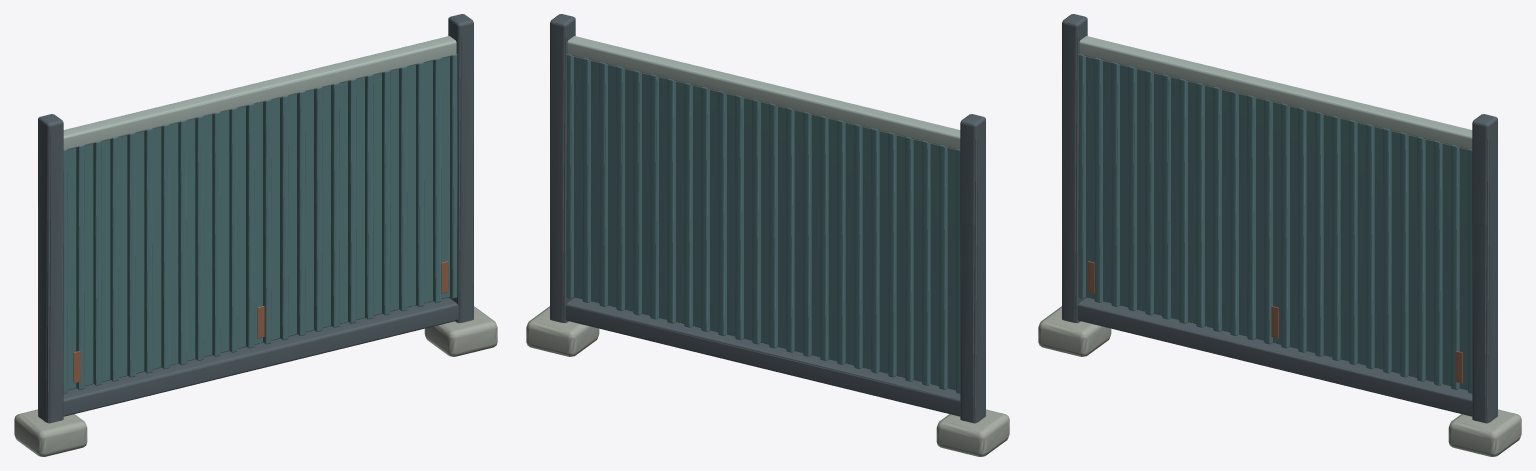
The model's file is corrugated_fence.glb.
3 views of the same model, side by side, from view 1: azimuth 30°, elevation 25°; view 2: azimuth 150°, elevation 25°; view 3: azimuth 330°, elevation 25° (orthographic).
Parts seen in each view (by area): view 1: Occlude_UpperPanel_Mesh, Keep_Mesh; view 2: Occlude_UpperPanel_Mesh, Keep_Mesh; view 3: Occlude_UpperPanel_Mesh, Keep_Mesh.
Part boxes in pixels (x1,y1,x2,y2): Occlude_UpperPanel_Mesh: (63, 36, 457, 393); Keep_Mesh: (14, 14, 497, 456); Occlude_UpperPanel_Mesh: (566, 36, 960, 393); Keep_Mesh: (526, 14, 1009, 456); Occlude_UpperPanel_Mesh: (1078, 36, 1472, 393); Keep_Mesh: (1038, 14, 1521, 456).
Size of the model in its own units: 3.25 by 2.2 by 0.35.
